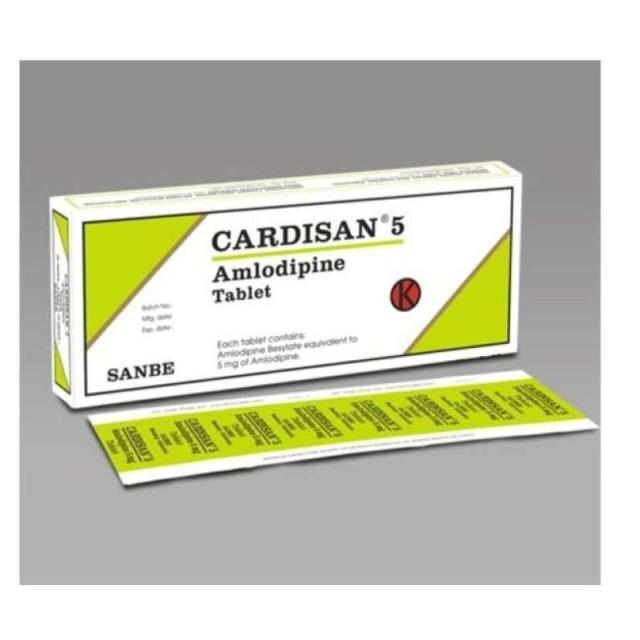drug-name: (210, 214, 409, 253)
